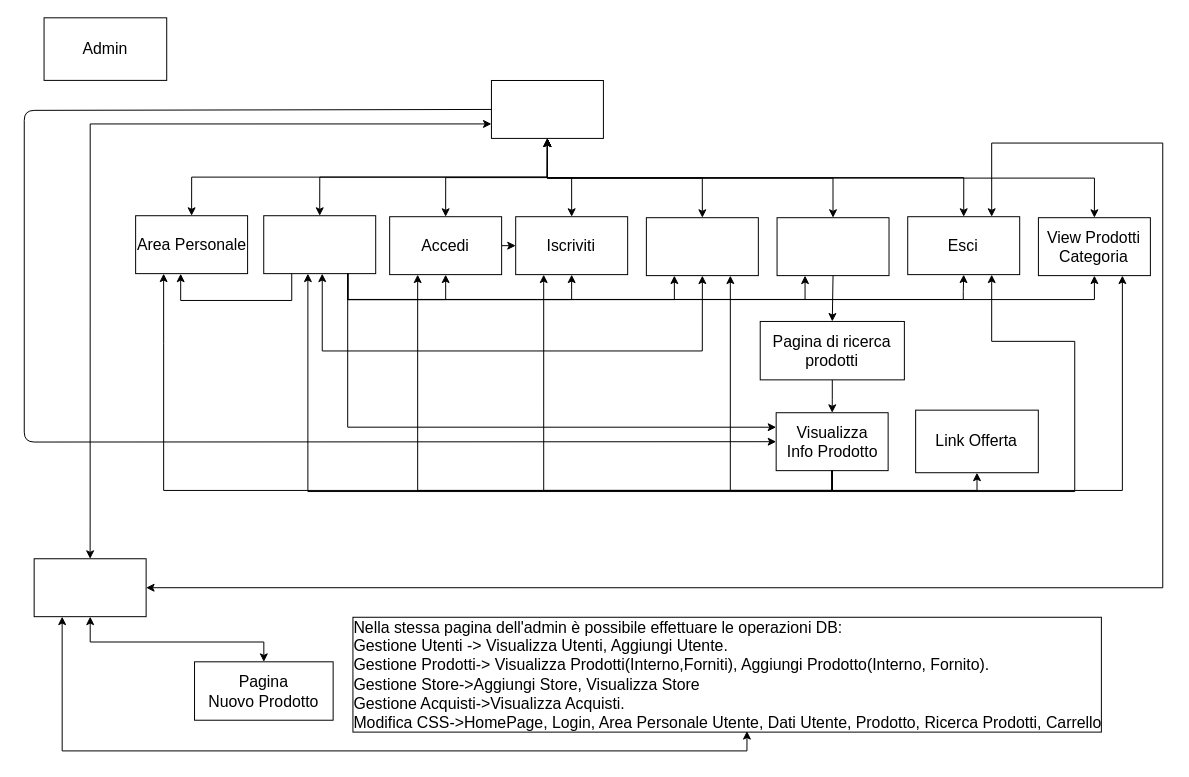
The diagram is 1189 pixels wide and 777 high, and some of its shapes have lost their labels. The centre of each missing label's shape, as x and y in pixels:
"Carrello" belongs at pixel 701 246.
"HomePage" belongs at pixel 546 108.
"Nostri Prodotti" belongs at pixel 319 244.
"Pagina Admin" belongs at pixel 89 587.
"Ricerca Prodotto" belongs at pixel 832 246.
